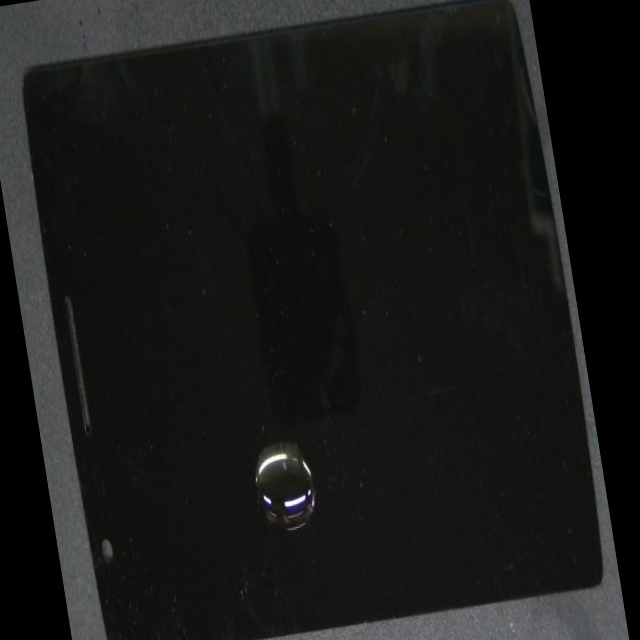oil: (156, 223, 478, 640)
